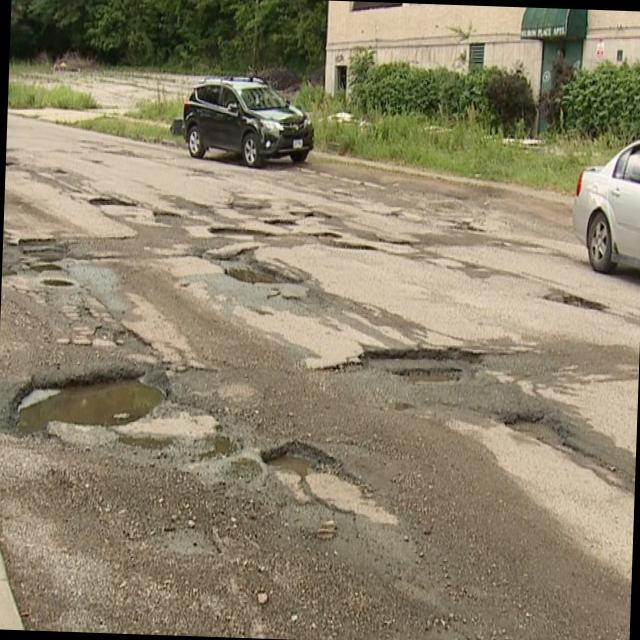Pothole: (310, 322, 640, 503), (2, 352, 207, 446), (216, 243, 373, 314), (241, 439, 332, 484), (19, 255, 90, 302), (149, 200, 210, 240), (443, 214, 512, 248), (528, 288, 606, 310), (87, 184, 150, 208), (202, 222, 266, 242), (332, 236, 402, 254), (314, 224, 356, 240), (268, 216, 304, 233), (297, 209, 336, 219)
